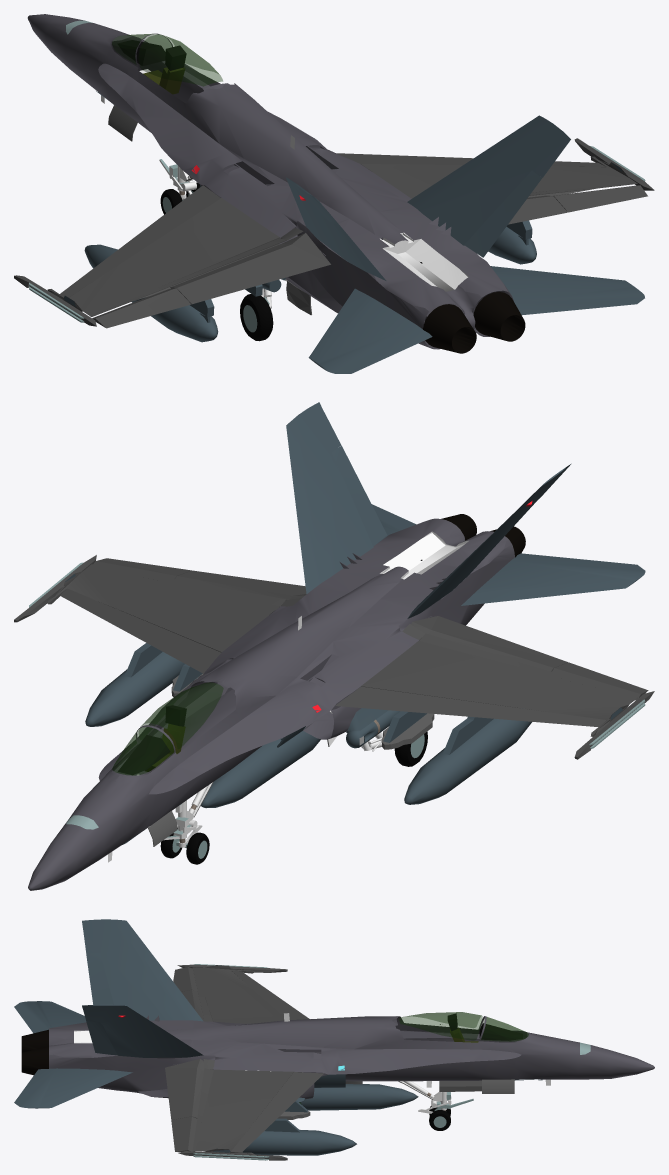
Rendered from jet.obj.
3 renders of one model, top to bottom at view 1: azimuth 30°, elevation 25°; view 2: azimuth 150°, elevation 25°; view 3: azimuth 270°, elevation 25°, orthographic. The views are drawn at different scales.
Parts seen in each view (by area): view 1: HornFuse, HornWing_, HornEsta, HornRudd_, HornLfla, HornNozz, HornLfue, HornLfl2, HornCono, HornFus2, HornLRud, HornRrud (+13 smaller); view 2: HornFuse, HornWing_, HornLfue, HornRudd_, HornEsta, HornLfl2, HornRfl3, HornCono, HornLfla, HornWsup, HornLRud, HornCon2 (+12 smaller); view 3: HornFuse, HornWing_, HornRudd_, HornLfue, HornEsta, HornRRud, HornRfla, HornRfl3, HornCono, HornNozz, HornEvt, HornLrud (+10 smaller).
Boxes of the visible parts, x1,y1,x2,y2 form: HornFuse: (27,14,513,349); HornWing_: (14,138,654,326); HornEsta: (308,266,644,373); HornRudd_: (319,115,570,245); HornLfla: (170,233,330,304); HornNozz: (423,292,525,353); HornLfue: (84,185,536,342); HornLfl2: (60,185,220,297); HornCono: (138,34,222,86); HornFus2: (114,69,468,291); HornLRud: (286,177,367,272); HornRrud: (464,170,541,257); HornFuse: (28,518,514,890); HornWing_: (14,555,654,759); HornLfue: (85,652,531,808); HornRudd_: (286,402,533,618); HornEsta: (371,504,645,605); HornLfl2: (335,686,606,726); HornRfl3: (60,588,221,673); HornCono: (139,682,223,748); HornLfla: (411,616,567,671); HornWsup: (124,643,493,754); HornLRud: (408,463,571,618); HornCon2: (112,727,173,775); HornFuse: (49,1015,654,1099); HornWing_: (177,964,293,1160); HornRudd_: (82,919,203,1021); HornLfue: (203,1084,418,1155); HornEsta: (14,1001,132,1108); HornRRud: (82,1004,203,1057); HornRfla: (165,1058,204,1119); HornRfl3: (231,1072,323,1152); HornCono: (399,1012,482,1040); HornNozz: (21,1029,48,1075); HornEvt: (398,1079,514,1099); HornLrud: (86,953,113,1004).
Bounding box in the file's own units: 16.91 × 6.82 × 24.15.
